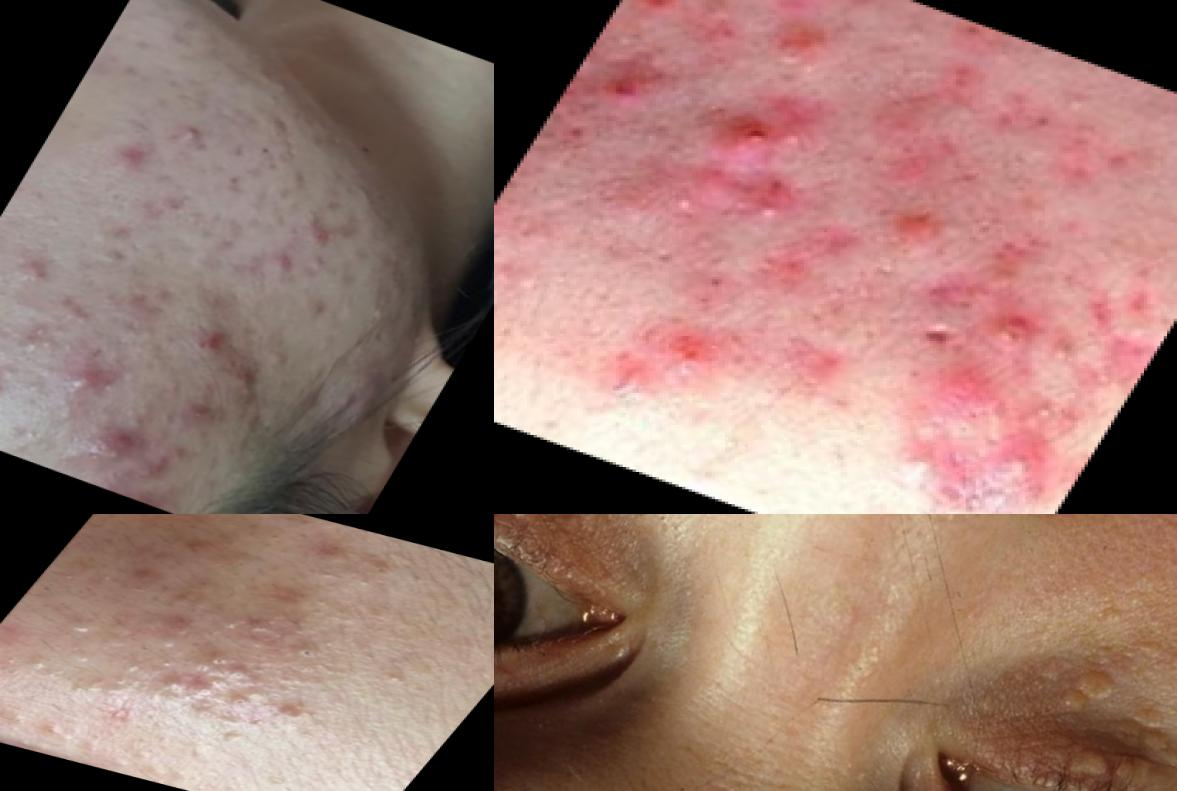acne_scars: (255, 583, 318, 613)
blackhead: (187, 646, 279, 688), (283, 637, 347, 672), (154, 621, 203, 656), (187, 674, 237, 704), (61, 615, 111, 642), (147, 653, 191, 677), (214, 727, 258, 751), (246, 615, 288, 639), (33, 718, 73, 739), (100, 636, 136, 655), (226, 693, 253, 710)
papular: (703, 84, 815, 173), (637, 303, 736, 387), (569, 50, 675, 124), (869, 202, 972, 274), (973, 421, 1066, 495), (923, 342, 1002, 411), (188, 311, 245, 360), (1, 364, 43, 429), (110, 138, 169, 181), (172, 532, 230, 568), (264, 697, 316, 726), (110, 564, 166, 589), (312, 540, 353, 565)
purulent: (970, 290, 1076, 367), (152, 103, 225, 163)
sebo-crystan-conglo: (78, 420, 162, 476), (45, 348, 124, 403), (217, 363, 285, 414)
syringoma: (1000, 631, 1130, 739), (1055, 733, 1145, 791), (1125, 705, 1177, 791), (495, 515, 559, 539)
whitehead: (4, 245, 68, 296), (8, 312, 62, 362), (47, 289, 109, 332), (116, 396, 169, 437), (83, 241, 136, 276), (81, 678, 145, 704), (24, 656, 53, 674)
